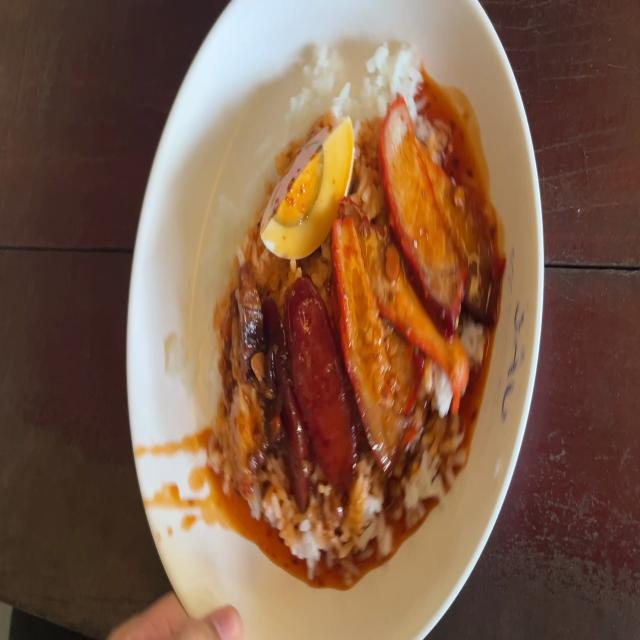red_pork_and_crispy_pork: (262, 116, 352, 253)
stir_fried_basil: (266, 283, 355, 502)
